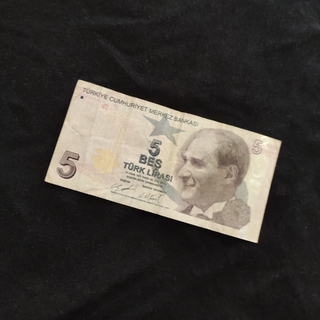5TLFront: (44, 79, 282, 244)
